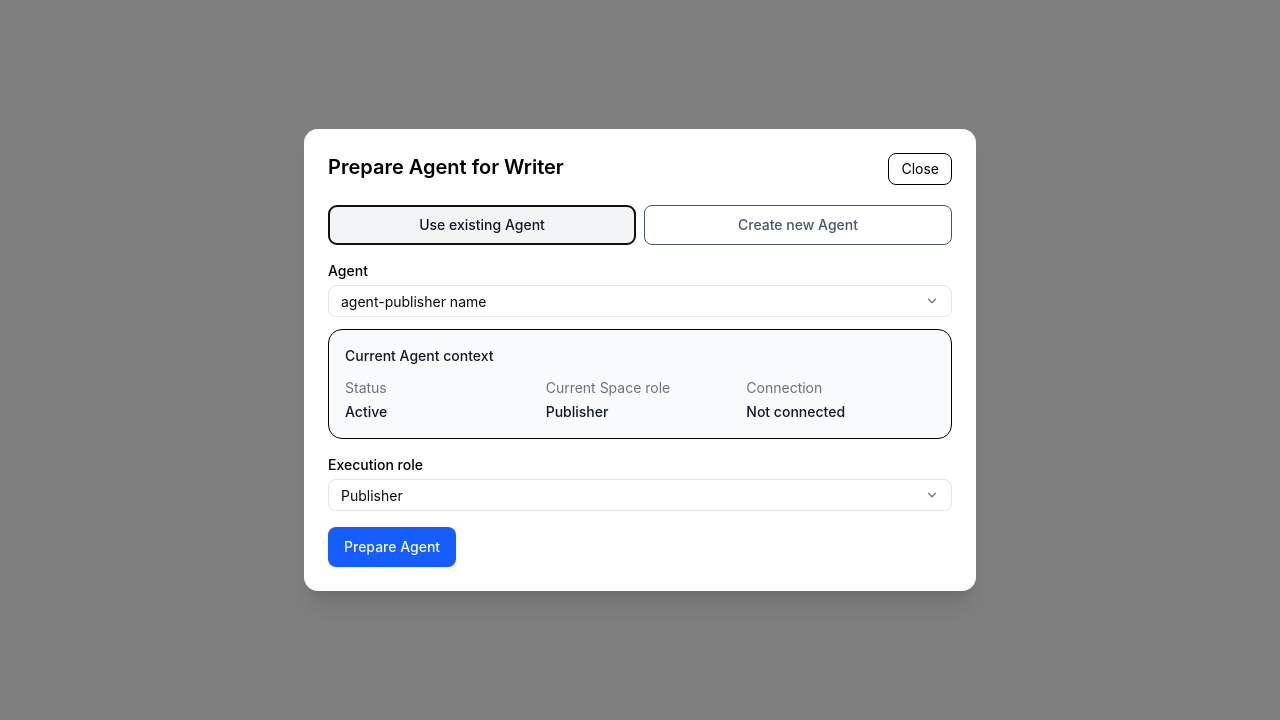
Test case: AgentPreparationDialog › resets Publisher to Editor for a new Agent and restores the existing Grant on return
Expected: the dropdown labelled "Execution role" shows "Publisher", [328, 479, 952, 511]
Click the tab "Create new Agent" at (798, 225), box [644, 205, 952, 245]
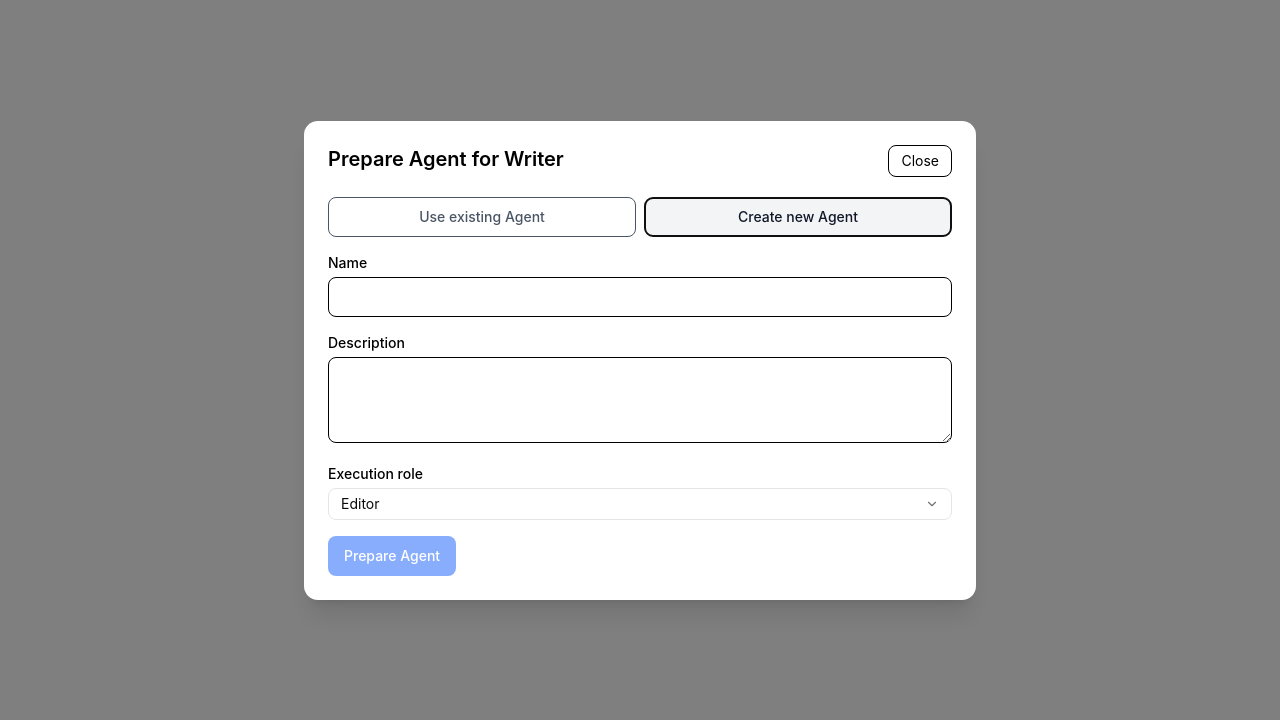
Now the dropdown labelled "Execution role" shows "Editor", box [328, 488, 952, 520]
Click the tab "Use existing Agent" at (482, 216), box [328, 196, 636, 236]
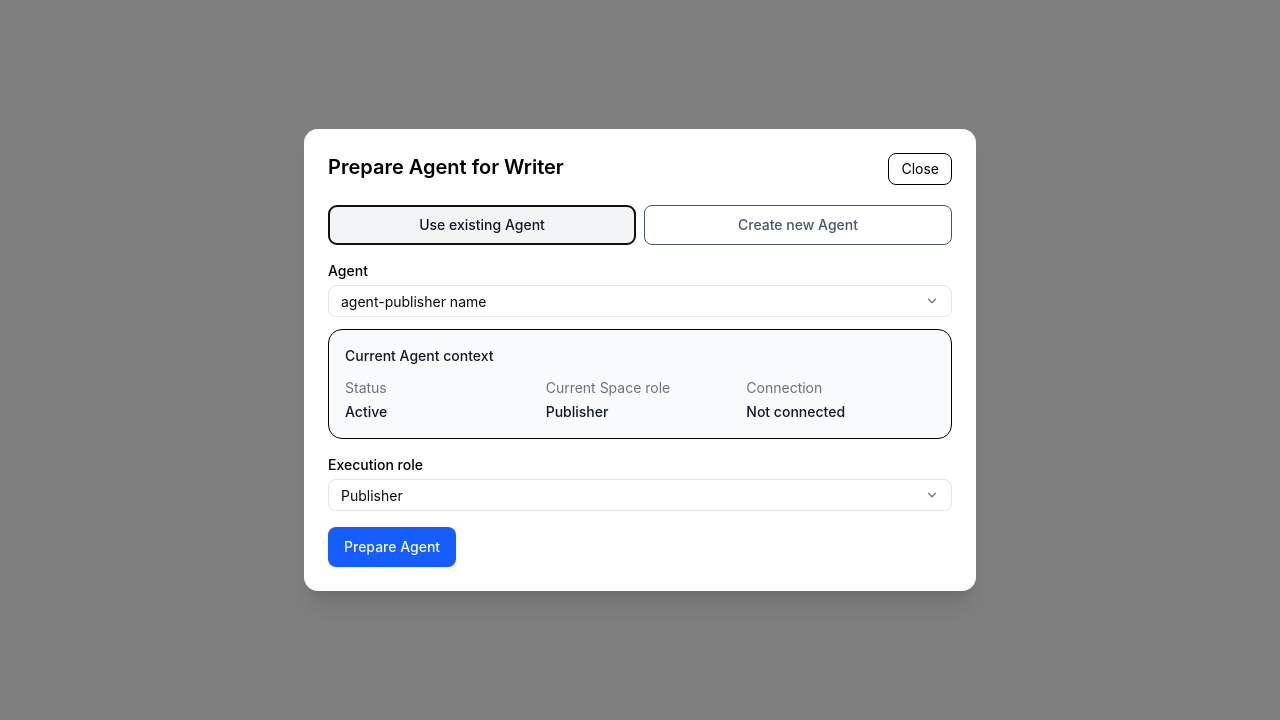
Now the dropdown labelled "Execution role" shows "Publisher", box [328, 479, 952, 511]
Click the tab "Create new Agent" at (798, 225), box [644, 205, 952, 245]
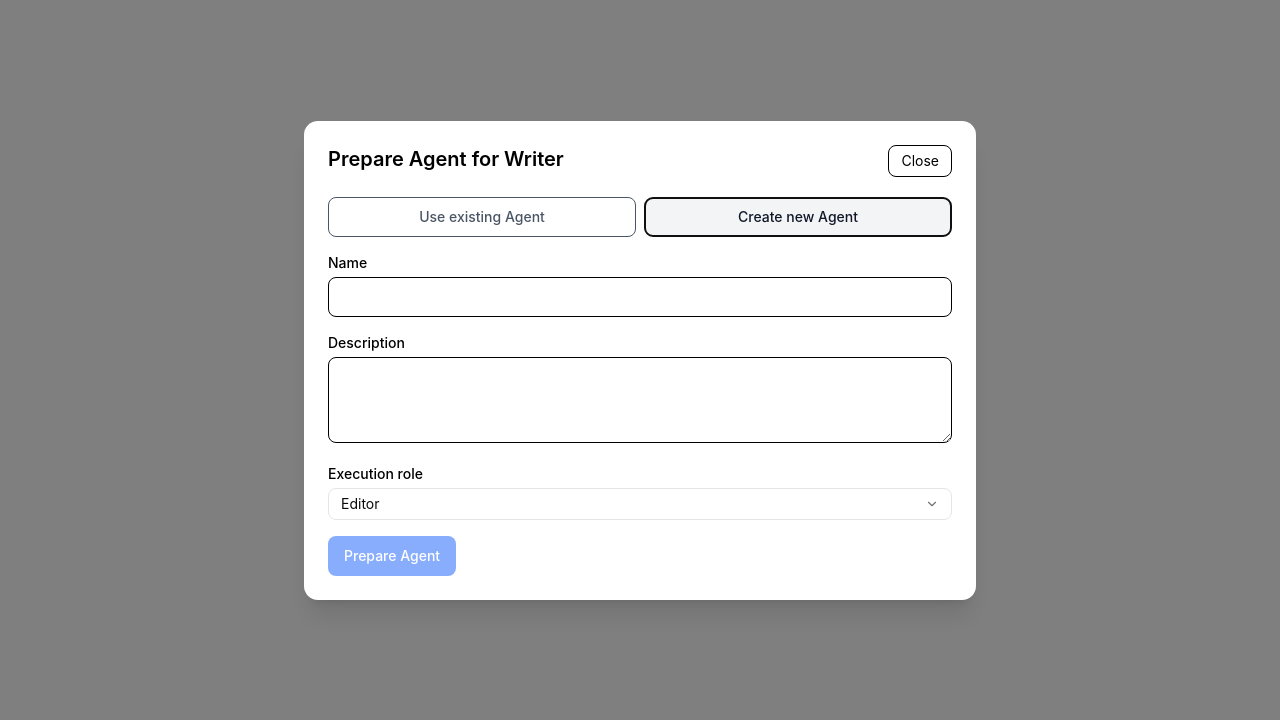
Now the dropdown labelled "Execution role" shows "Editor", box [328, 488, 952, 520]
Type "New Agent" into the field labelled "Name" at (640, 296), box [328, 276, 952, 316]
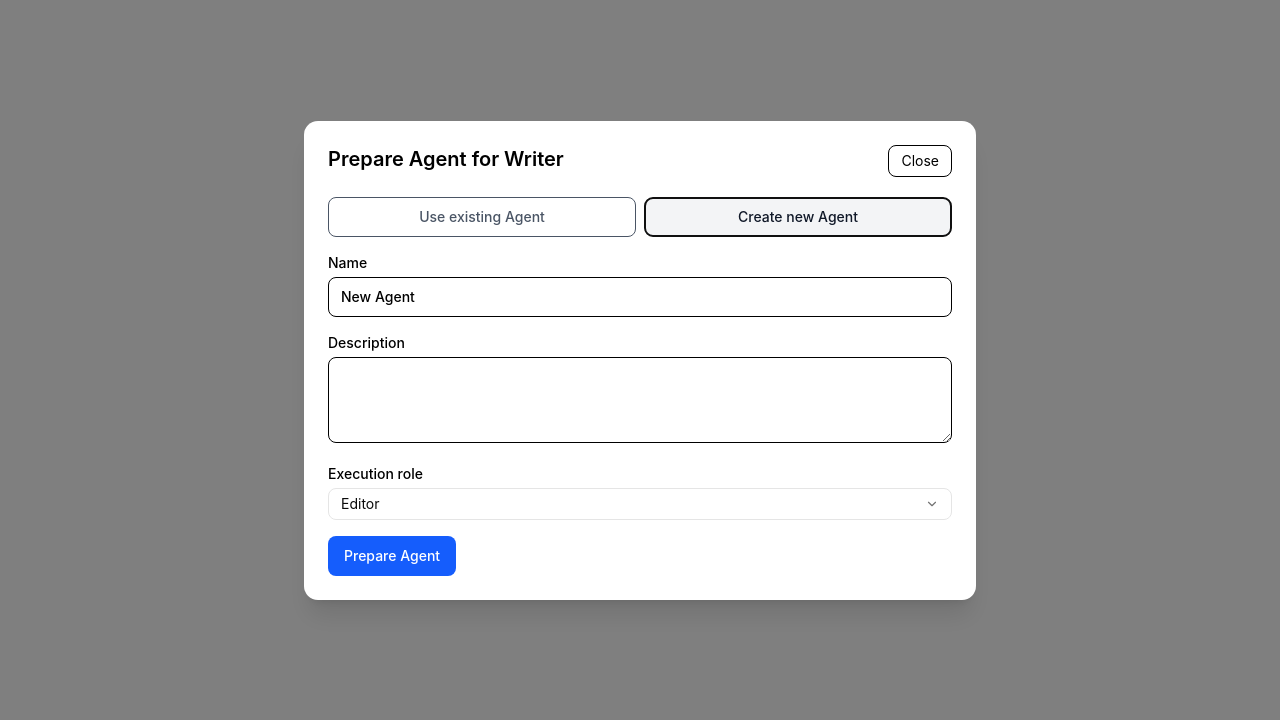
Click the button "Prepare Agent" at (392, 556), box [328, 536, 456, 576]
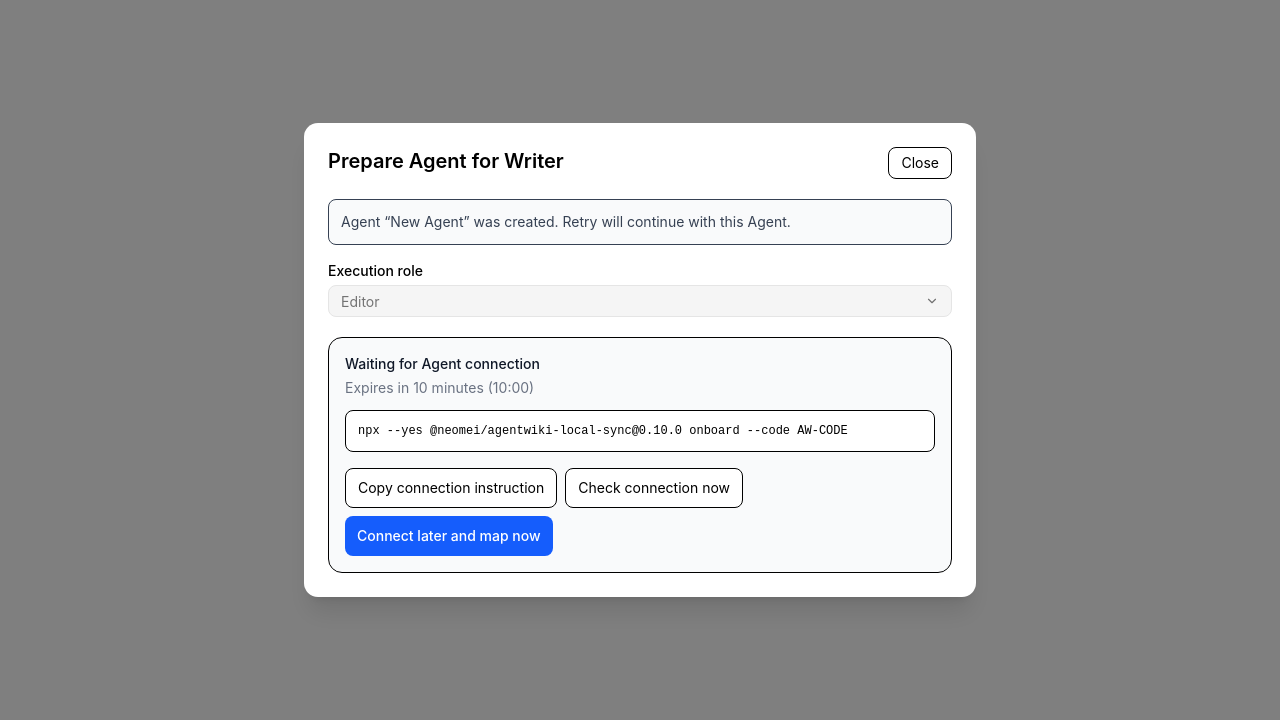
Now the text "onboard --code AW-CODE" is shown, box [358, 424, 848, 438]
